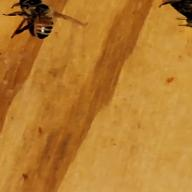Bee: (0, 0, 73, 41)
